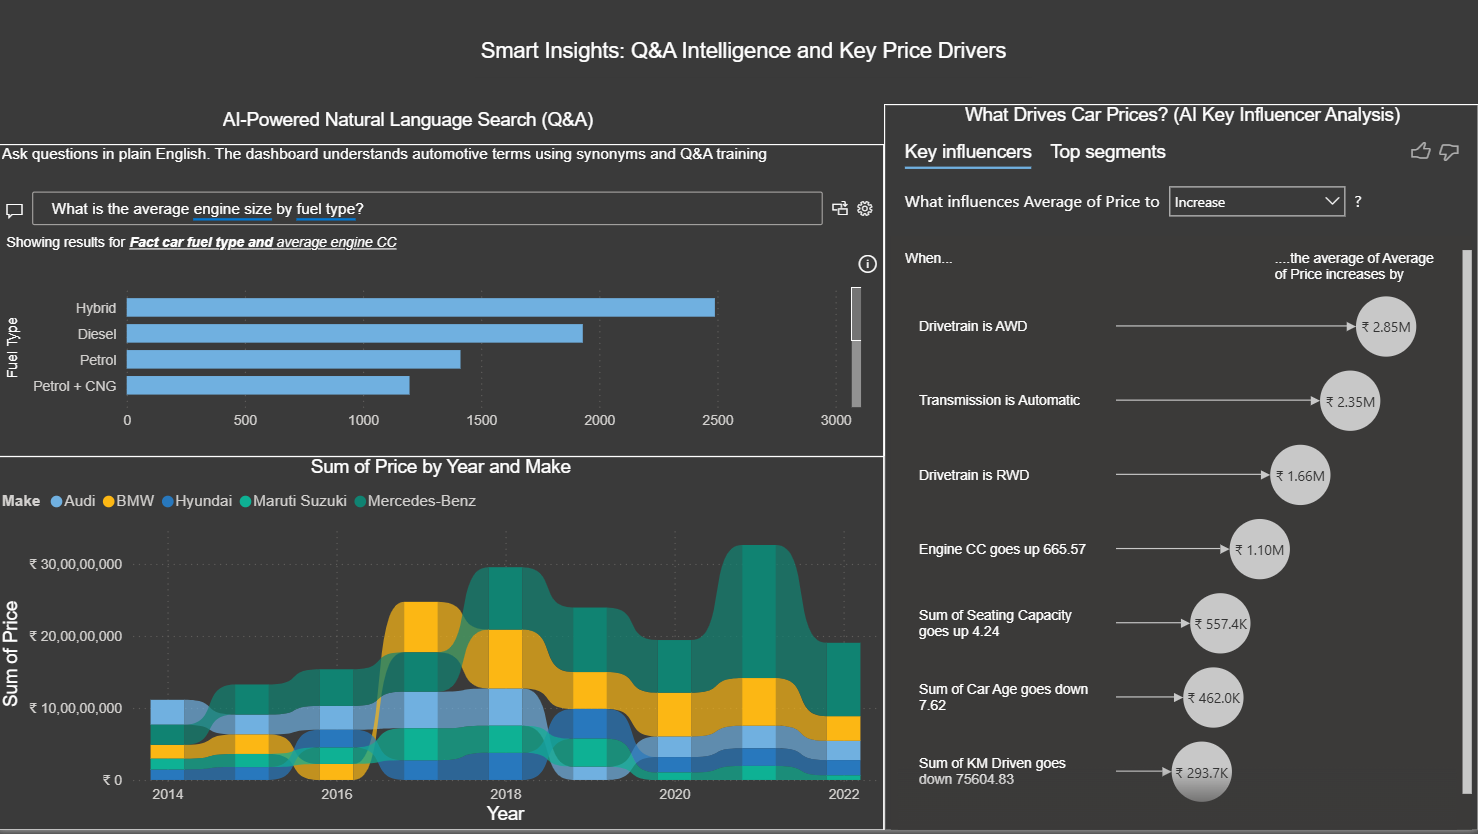

The dashboard page shown, as its layout file describes it:
{"tool":"powerbi","page":{"name":"Page 2","canvas":[1280,720],"ordinal":5},"visuals":[{"type":"qnaVisual","title":"Ask questions in plain English. The dashboard understands automotive terms using synonyms and Q&A training","box":[0,128.2,767,269.5],"z":0},{"type":"textbox","box":[191.2,93.8,384.7,34.4],"z":1000},{"type":"keyDriversVisual","title":"What Drives Car Prices? (AI Key Influencer Analysis)","fields":{"Target":["Fact_Cars.Price"],"ExplainBy":["Fact_Cars.Engine CC","Fact_Cars.Max Torque","Fact_Cars.Max Power","Sum(Fact_Cars.Car Age)","Sum(Fact_Cars.KM Driven)","Sum(Fact_Cars.Seating Capacity)","Dim_Fuel.FuelType","Fact_Cars.Transmission","Fact_Cars.Drivetrain","Fact_Cars.Location","Fact_Cars.Seller Type"]},"box":[767,93.8,512.9,626.9],"z":2000},{"type":"ribbonChart","fields":{"Category":["Fact_Cars.Year"],"Series":["Fact_Cars.Make"],"Y":["Sum(Fact_Cars.Price)"]},"box":[0,397.8,767,323],"z":3000},{"type":"textbox","box":[414.4,32.1,479.7,39.2],"z":4000}]}

Visuals, with their boxes in screenshot pixels (x1, y1, x2, y2), scaled from the page's 1280x720 canvas onto the 1478x834 screenshot:
"Ask questions in plain English. The dashboard understands automotive terms using synonyms and Q&A training" qnaVisual: [0, 148, 886, 461]
textbox: [221, 109, 665, 148]
"What Drives Car Prices? (AI Key Influencer Analysis)" keyDriversVisual: [886, 109, 1477, 833]
ribbonChart - Fact_Cars.Year x Fact_Cars.Make: [0, 461, 886, 833]
textbox: [479, 37, 1032, 83]
